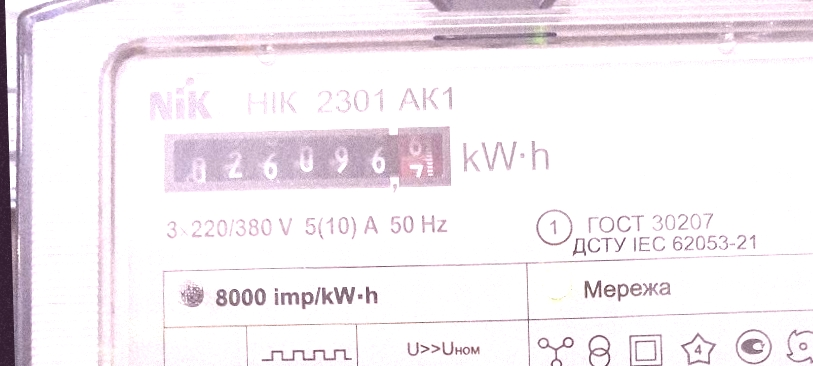0: (295, 141, 316, 177), (188, 152, 209, 184)
2: (224, 147, 246, 182)
6: (261, 148, 281, 183), (368, 142, 387, 176), (405, 131, 425, 159)
7: (407, 160, 426, 182)
9: (332, 143, 351, 176)
screen: (153, 116, 460, 205)
